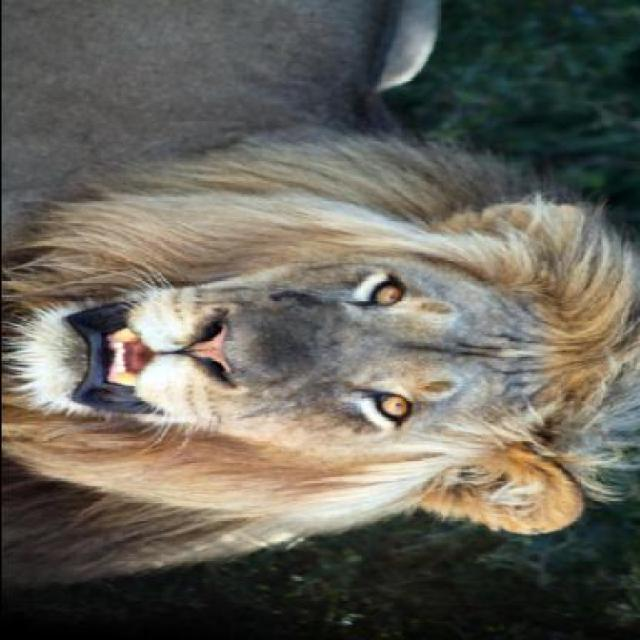Lion: (2, 138, 624, 580)
